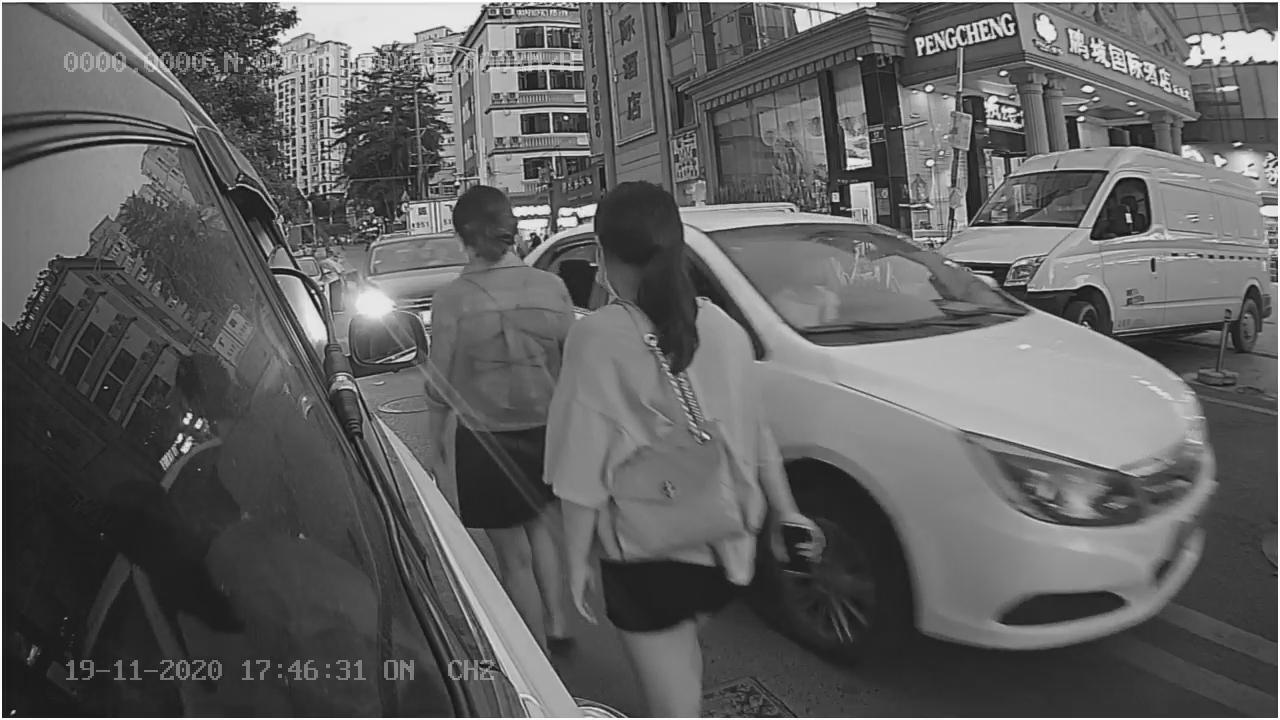person: (552, 188, 755, 652)
